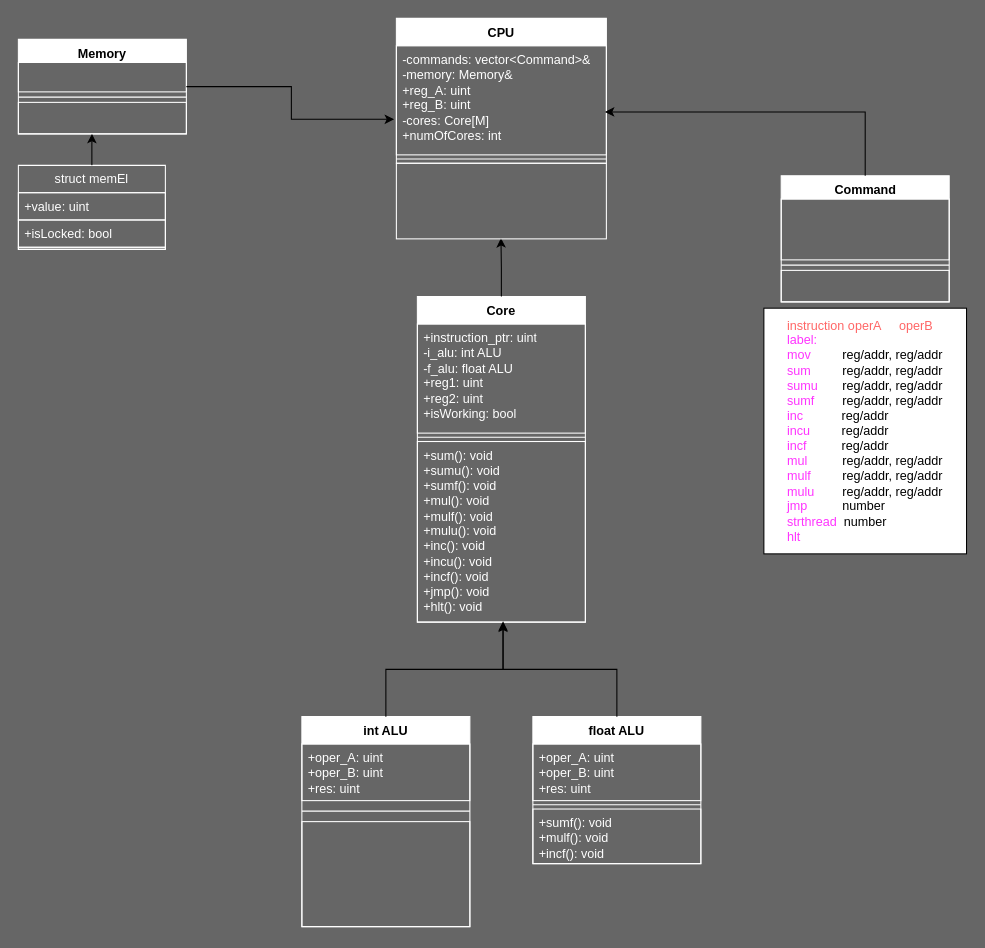
The diagram is 985 pixels wide and 948 high, and some of its shapes have lost their labels. Each missing label, with the centre of its shape:
+desc(): string: (x=864, y=285)
+oper_A: string +oper_B: string +type: enum: (x=864, y=229)
+operator[]: &memEl: (x=101, y=117)
+run(): void +getStatus(): string -oper2val(): uint -execCommand(Command): void: (x=500, y=200)
+sum(): void +sumu(): void +mul(): void +mulu(): void +inc(): void +incu(): void: (x=385, y=874)
-memory: memEl[N]: (x=101, y=76)
